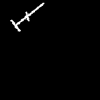double_crochet: (11, 3, 43, 30)
